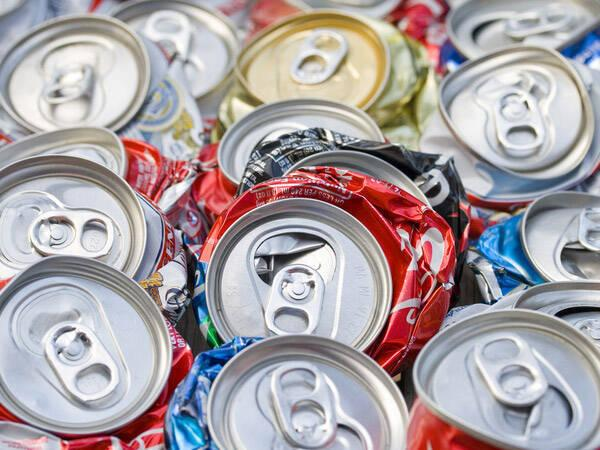metal: (2, 18, 190, 450), (196, 100, 469, 359), (412, 196, 600, 450), (425, 0, 600, 196), (164, 333, 406, 448), (228, 5, 432, 122), (115, 0, 239, 98)
